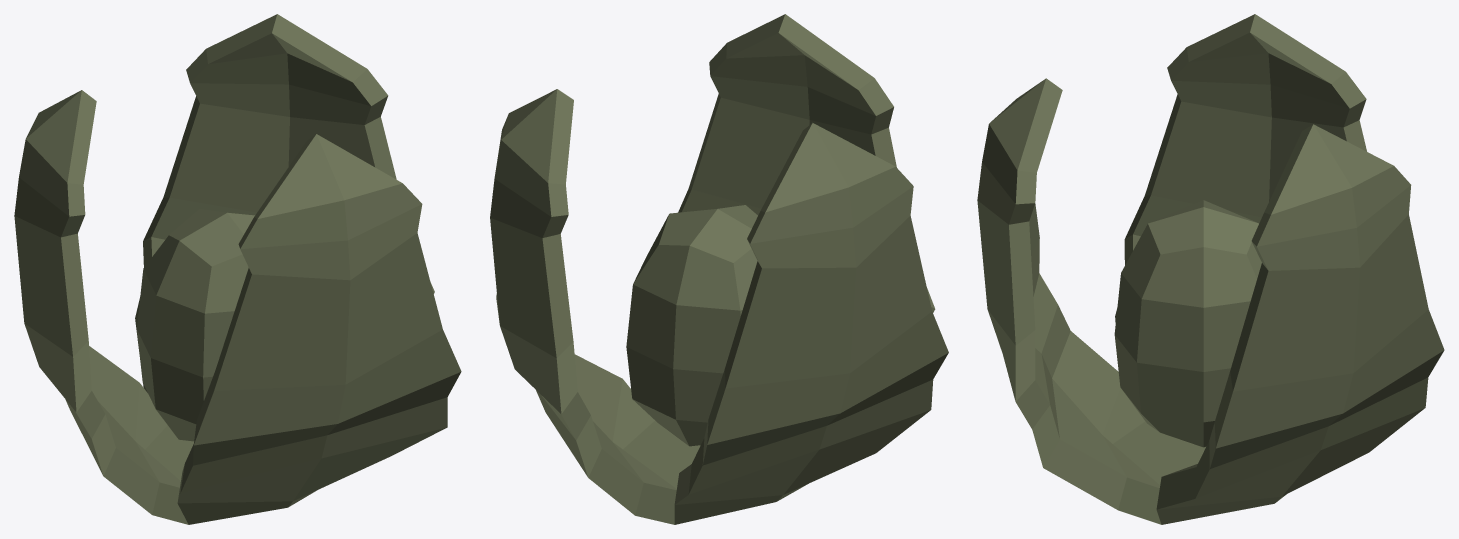
Rendered from lettuce_2.glb.
3 views of the same model, side by side, from view 1: azimuth 30°, elevation 25°; view 2: azimuth 150°, elevation 25°; view 3: azimuth 270°, elevation 25° (orthographic).
Parts seen in each view (by area): view 1: Lettuce_2; view 2: Lettuce_2; view 3: Lettuce_2.
Boxes of the visible parts, x1,y1,x2,y2 form: Lettuce_2: [14, 14, 461, 524]; Lettuce_2: [490, 14, 948, 524]; Lettuce_2: [977, 14, 1444, 524].
Bounding box in the file's own units: 0.3689 × 0.354 × 0.3673.
